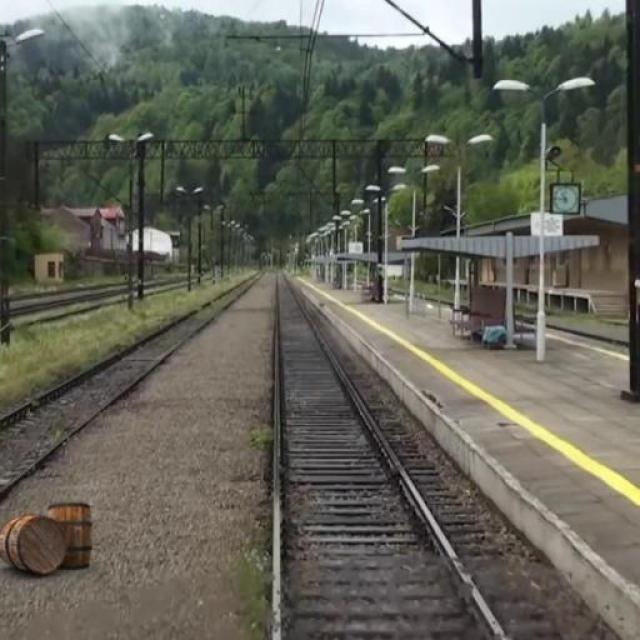Other_objects: (0, 493, 100, 574)
